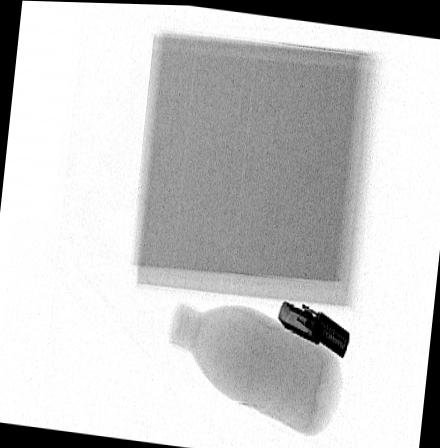Lighter: (276, 298, 350, 356)
